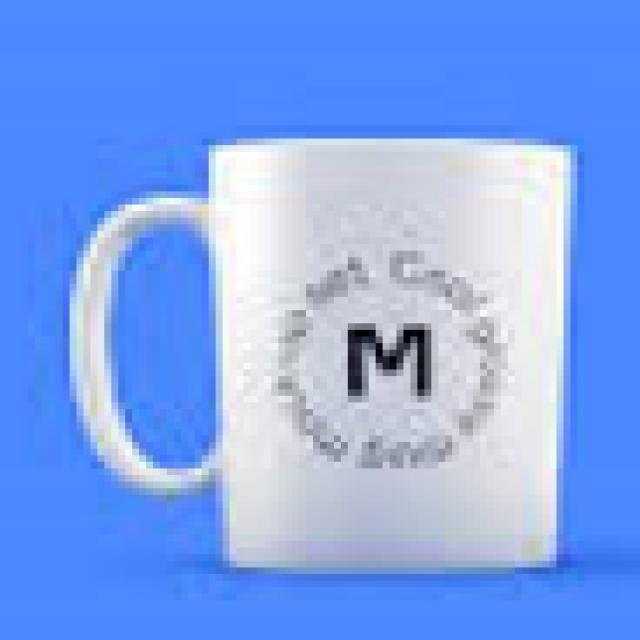taza: (69, 136, 576, 571)
